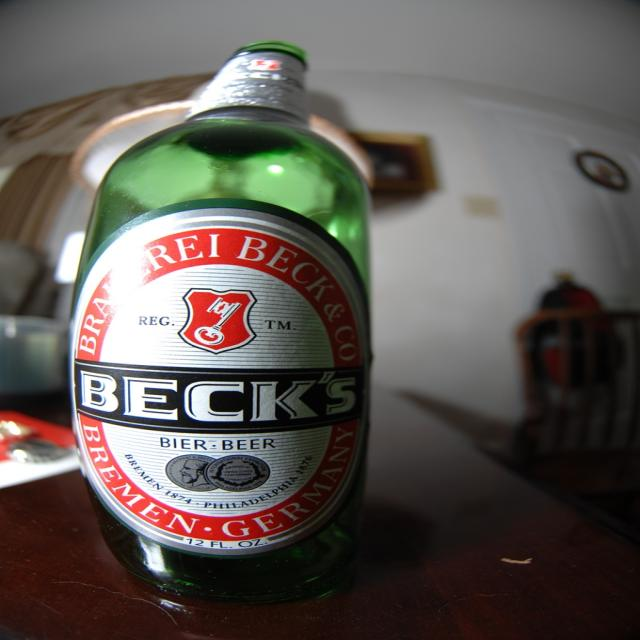becks: (70, 209, 368, 557)
